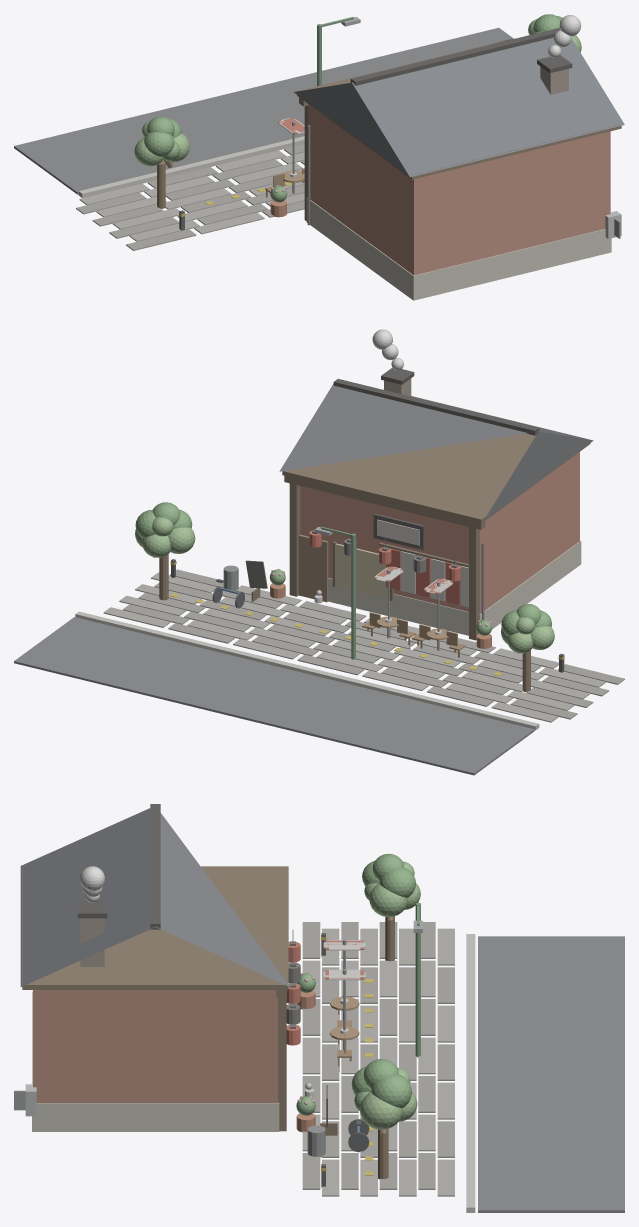
Rendered from ramen_12.glb.
3 views of the same model, one above another, from view 1: azimuth 30°, elevation 25°; view 2: azimuth 150°, elevation 25°; view 3: azimuth 270°, elevation 25° (orthographic). The views are drawn at different scales.
Parts seen in each view (by area): view 1: geometry_0; view 2: geometry_0; view 3: geometry_0.
Part boxes in pixels (x1,y1,x2,y2): geometry_0: (14,14,624,300); geometry_0: (14,329,624,775); geometry_0: (14,804,624,1212).
Size of the model in its own units: 19.25 by 8.06 by 17.44.
